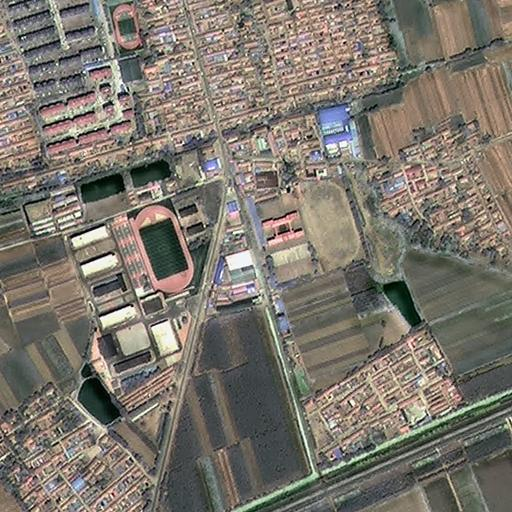school: (65, 177, 230, 408), (253, 178, 358, 286)
